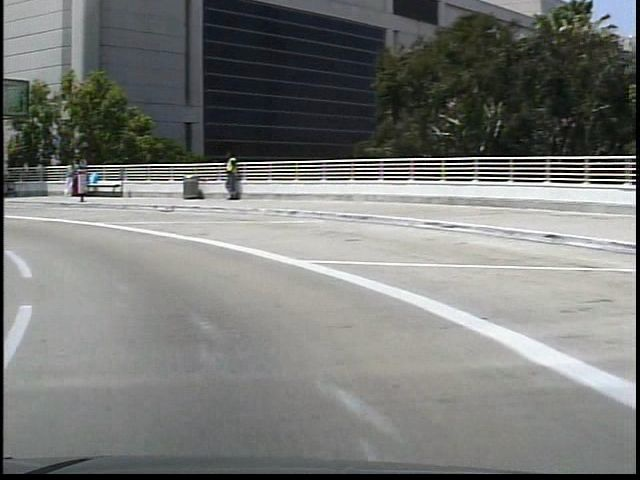person: (216, 147, 237, 202)
